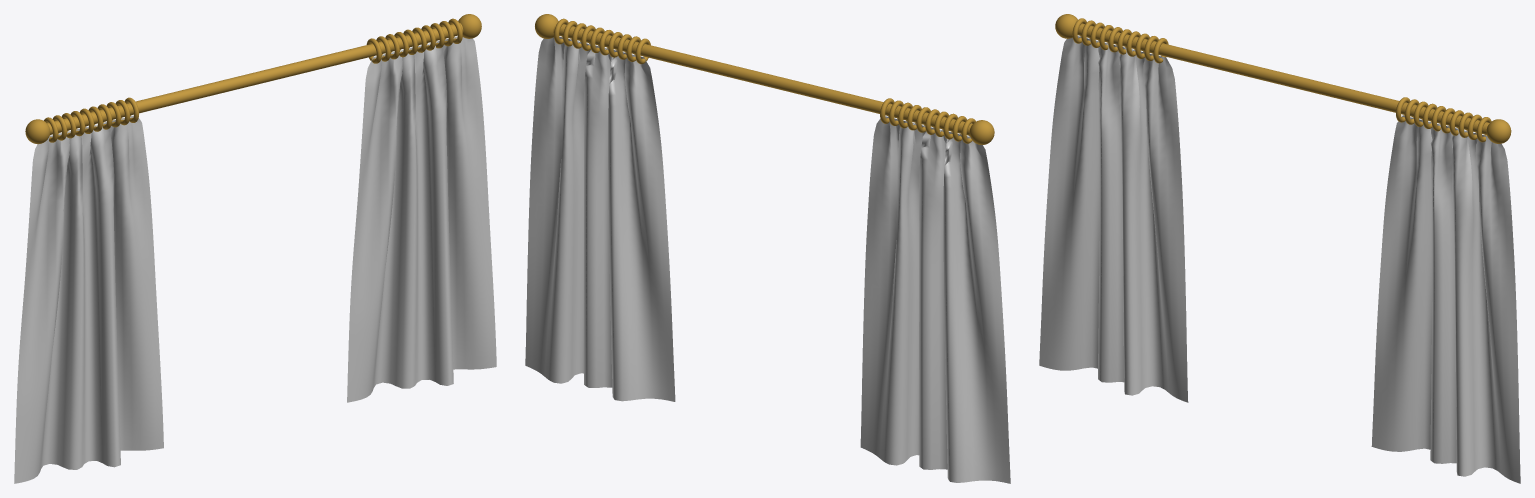
File: curtain.fbx
The picture shows the model from 3 angles, left to right: view 1: azimuth 30°, elevation 25°; view 2: azimuth 150°, elevation 25°; view 3: azimuth 330°, elevation 25°; orthographic projection.
Visible parts, largest first — view 1: 平面.006, 平面.008, 円柱.002, トーラス.004, トーラス.005, 球.002; view 2: 平面.008, 平面.006, 円柱.002, トーラス.004, トーラス.005, 球.002; view 3: 平面.008, 平面.006, 円柱.002, トーラス.005, トーラス.004, 球.002.
Part boxes in pixels (left/top/right/bottom): 平面.006: left=347, top=36, right=496, bottom=402; 平面.008: left=14, top=115, right=163, bottom=483; 円柱.002: left=47, top=23, right=463, bottom=134; トーラス.004: left=366, top=18, right=462, bottom=63; トーラス.005: left=44, top=97, right=138, bottom=142; 球.002: left=25, top=14, right=481, bottom=144; 平面.008: left=860, top=116, right=1010, bottom=483; 平面.006: left=525, top=36, right=675, bottom=401; 円柱.002: left=553, top=23, right=972, bottom=135; トーラス.004: left=554, top=18, right=650, bottom=64; トーラス.005: left=880, top=98, right=975, bottom=143; 球.002: left=535, top=14, right=994, bottom=144; 平面.008: left=1039, top=36, right=1188, bottom=402; 平面.006: left=1371, top=115, right=1520, bottom=483; 円柱.002: left=1077, top=23, right=1489, bottom=134; トーラス.005: left=1072, top=18, right=1168, bottom=63; トーラス.004: left=1396, top=97, right=1491, bottom=142; 球.002: left=1055, top=14, right=1511, bottom=143.
Size of the model in its own units: 1341 by 948 by 94.26.
